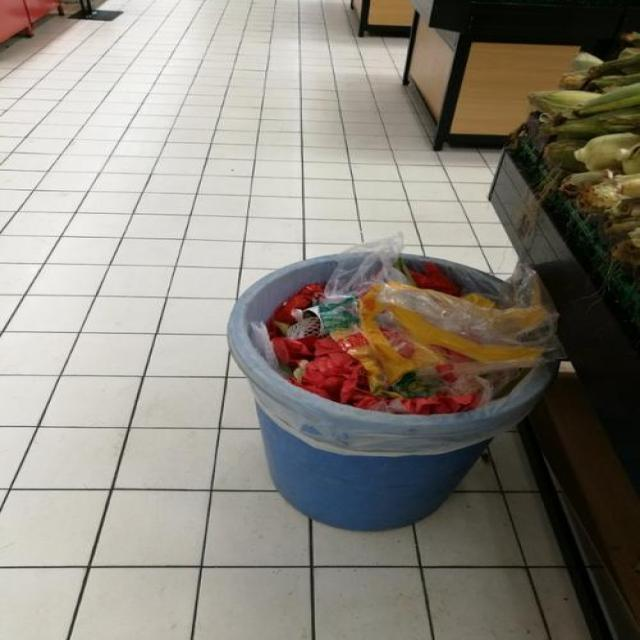overflow: (228, 231, 560, 531)
